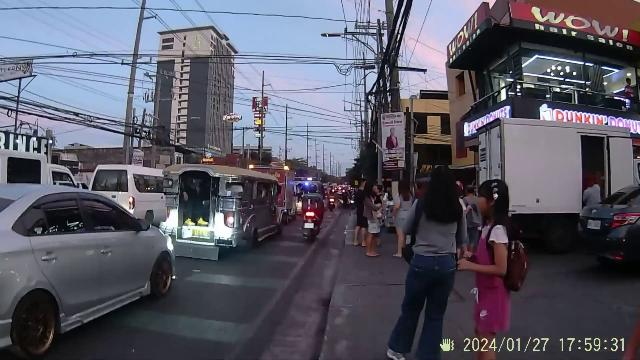utility_post: (388, 5, 400, 211)
